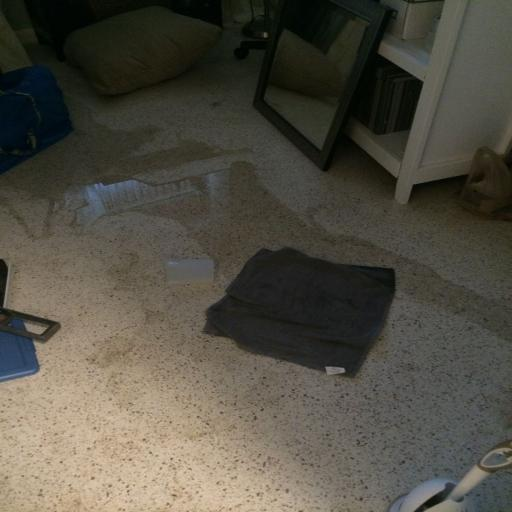road: (346, 118, 409, 177), (379, 33, 430, 80)
wet_floor: (11, 78, 512, 485)
